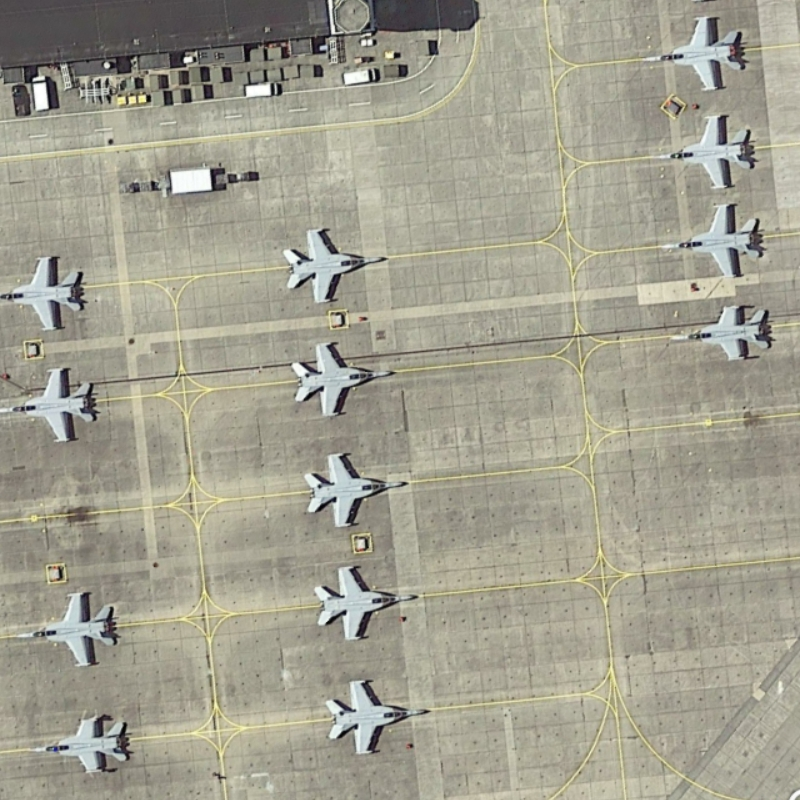A16: (272, 216, 392, 311), (319, 666, 433, 764), (308, 557, 424, 649), (283, 334, 399, 425), (16, 583, 126, 678), (639, 7, 752, 99), (299, 444, 411, 533), (1, 358, 110, 448), (660, 200, 772, 285), (662, 294, 779, 372), (650, 110, 757, 194), (2, 243, 92, 340), (32, 709, 140, 782)
